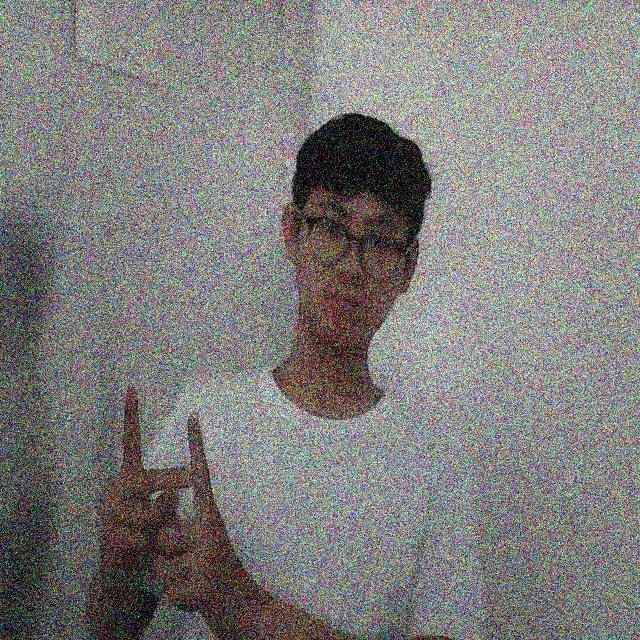H: (85, 379, 238, 595)
